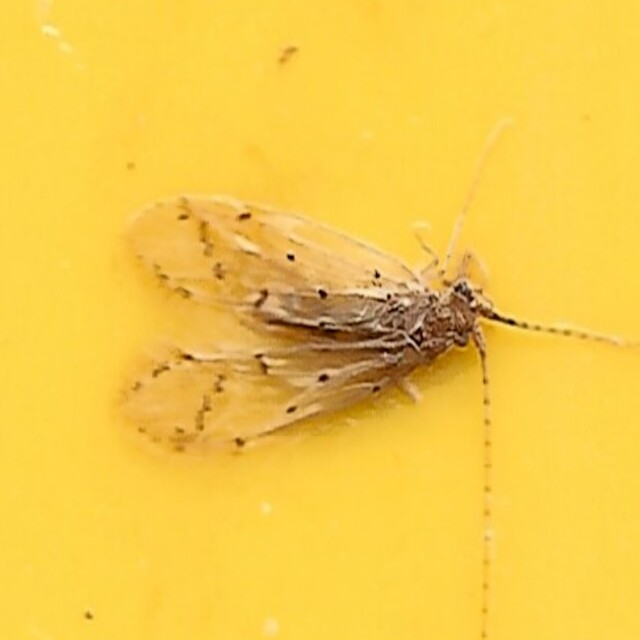Plecoptera: (113, 172, 527, 468)
